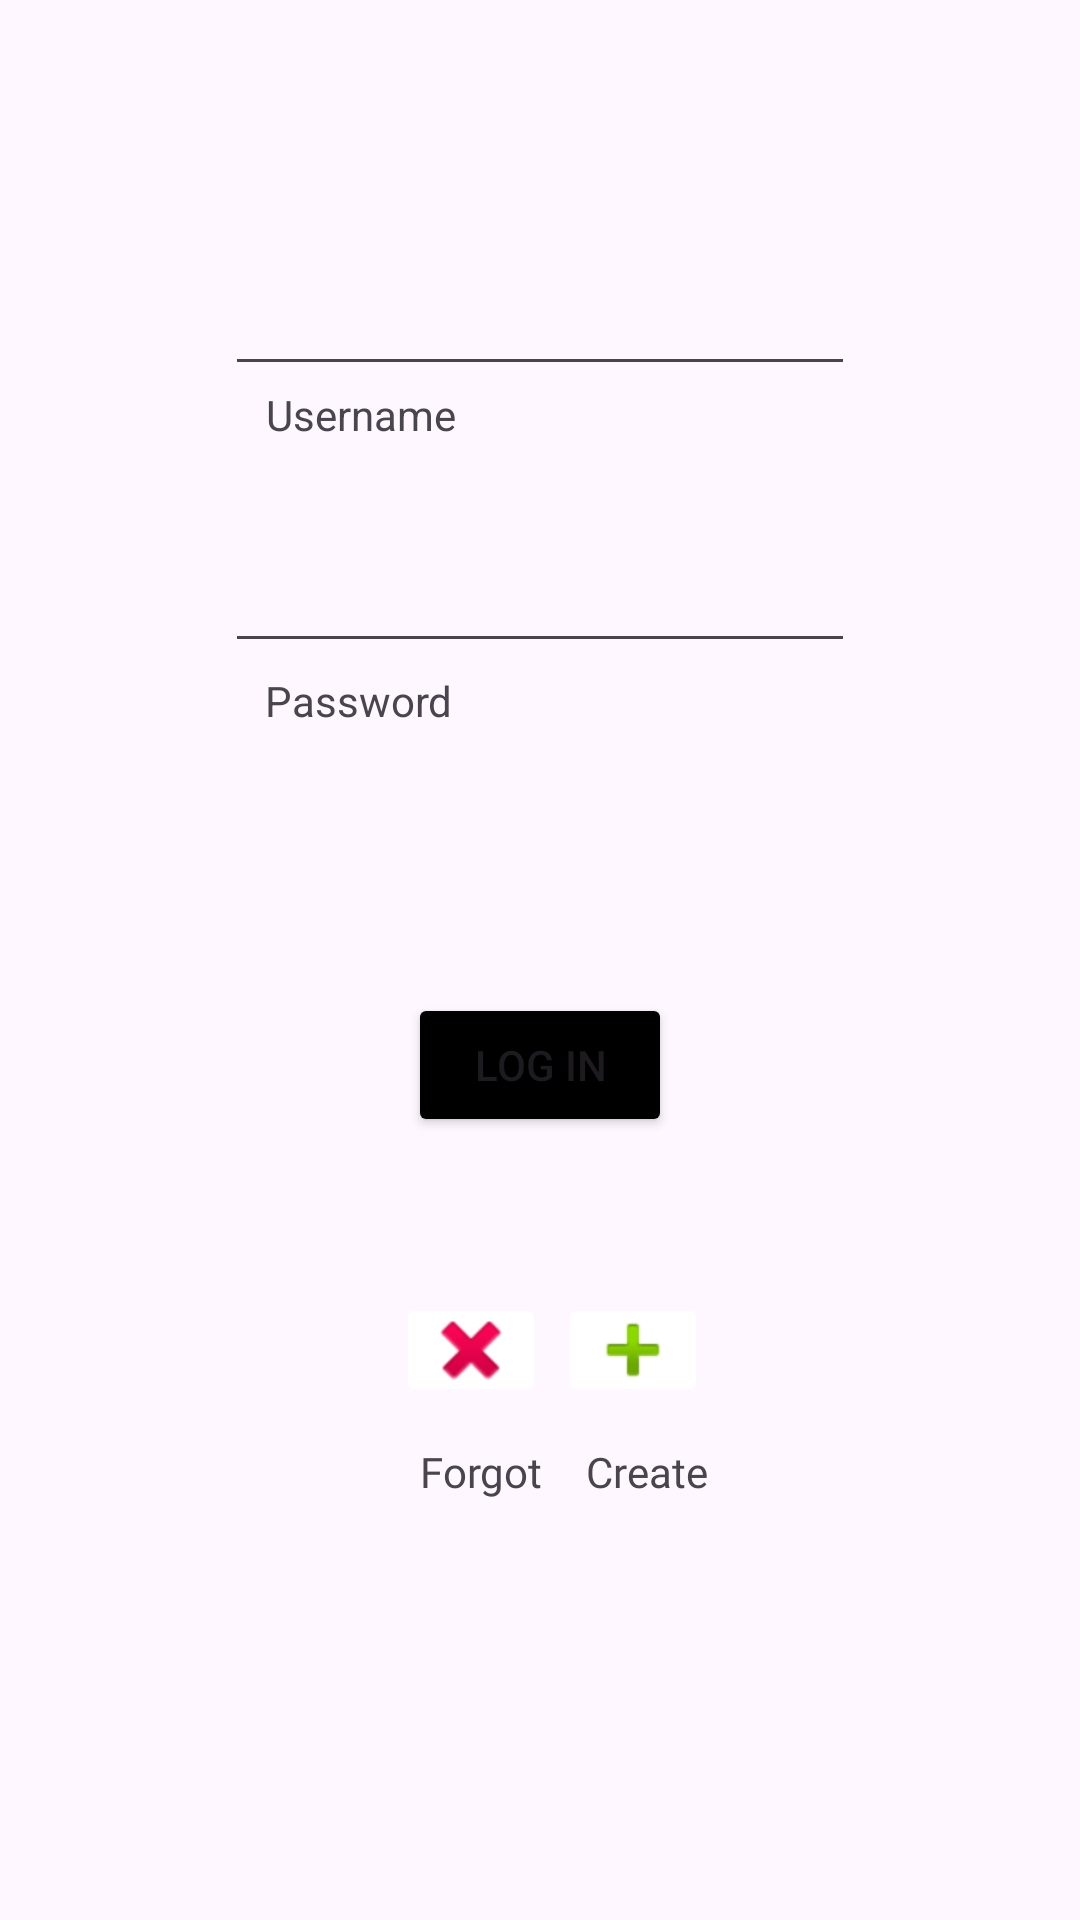

Icon click points for this 1080px x 1920px phone screenshot, format (x=x, y=y):
add: (x=633, y=1350)
delete: (x=471, y=1350)
